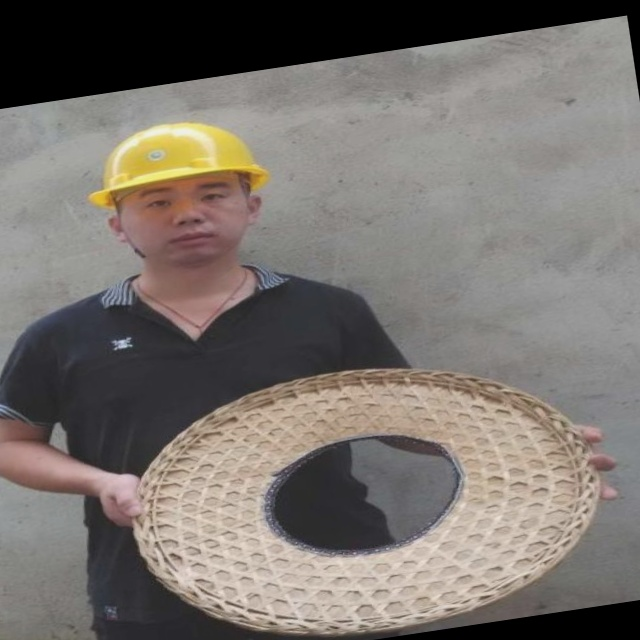Con_Casco: (84, 110, 276, 268)
